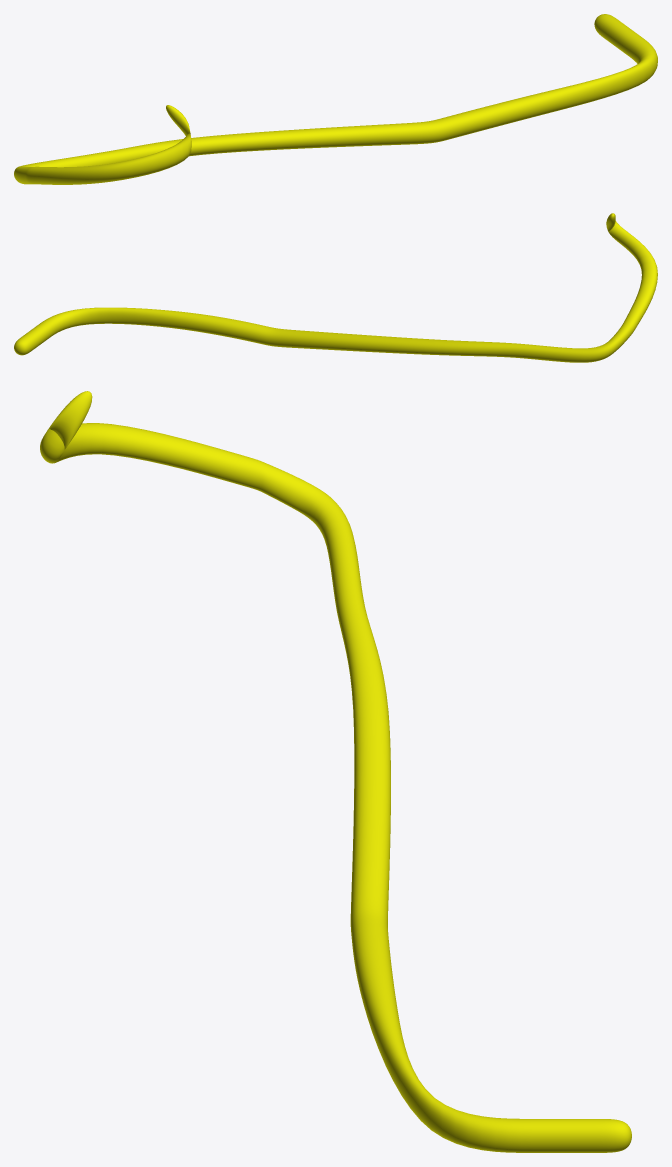
File: conducto deferente der.fbx
3 views of the same model, one above another, from view 1: azimuth 30°, elevation 25°; view 2: azimuth 150°, elevation 25°; view 3: azimuth 270°, elevation 25° (orthographic). The views are drawn at different scales.
Parts seen in each view (by area): view 1: Cube_002; view 2: Cube_002; view 3: Cube_002.
Boxes of the visible parts, bbox=[...] form: Cube_002: bbox=[14, 14, 657, 184]; Cube_002: bbox=[14, 213, 657, 362]; Cube_002: bbox=[40, 391, 631, 1152].
Size of the model in its own units: 27.5 by 7.75 by 13.32.
